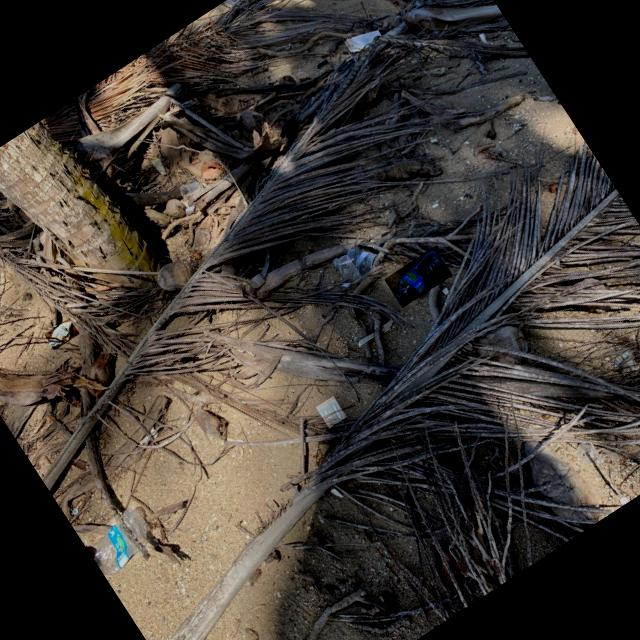Clear plastic bottle: (91, 507, 146, 574), (395, 250, 448, 301), (333, 252, 367, 280)
Cup: (347, 248, 377, 272), (180, 182, 203, 201)
Other container: (358, 318, 391, 346)
Unlabeled litter: (344, 31, 381, 51), (316, 398, 345, 418), (49, 321, 71, 347), (169, 96, 199, 111)
